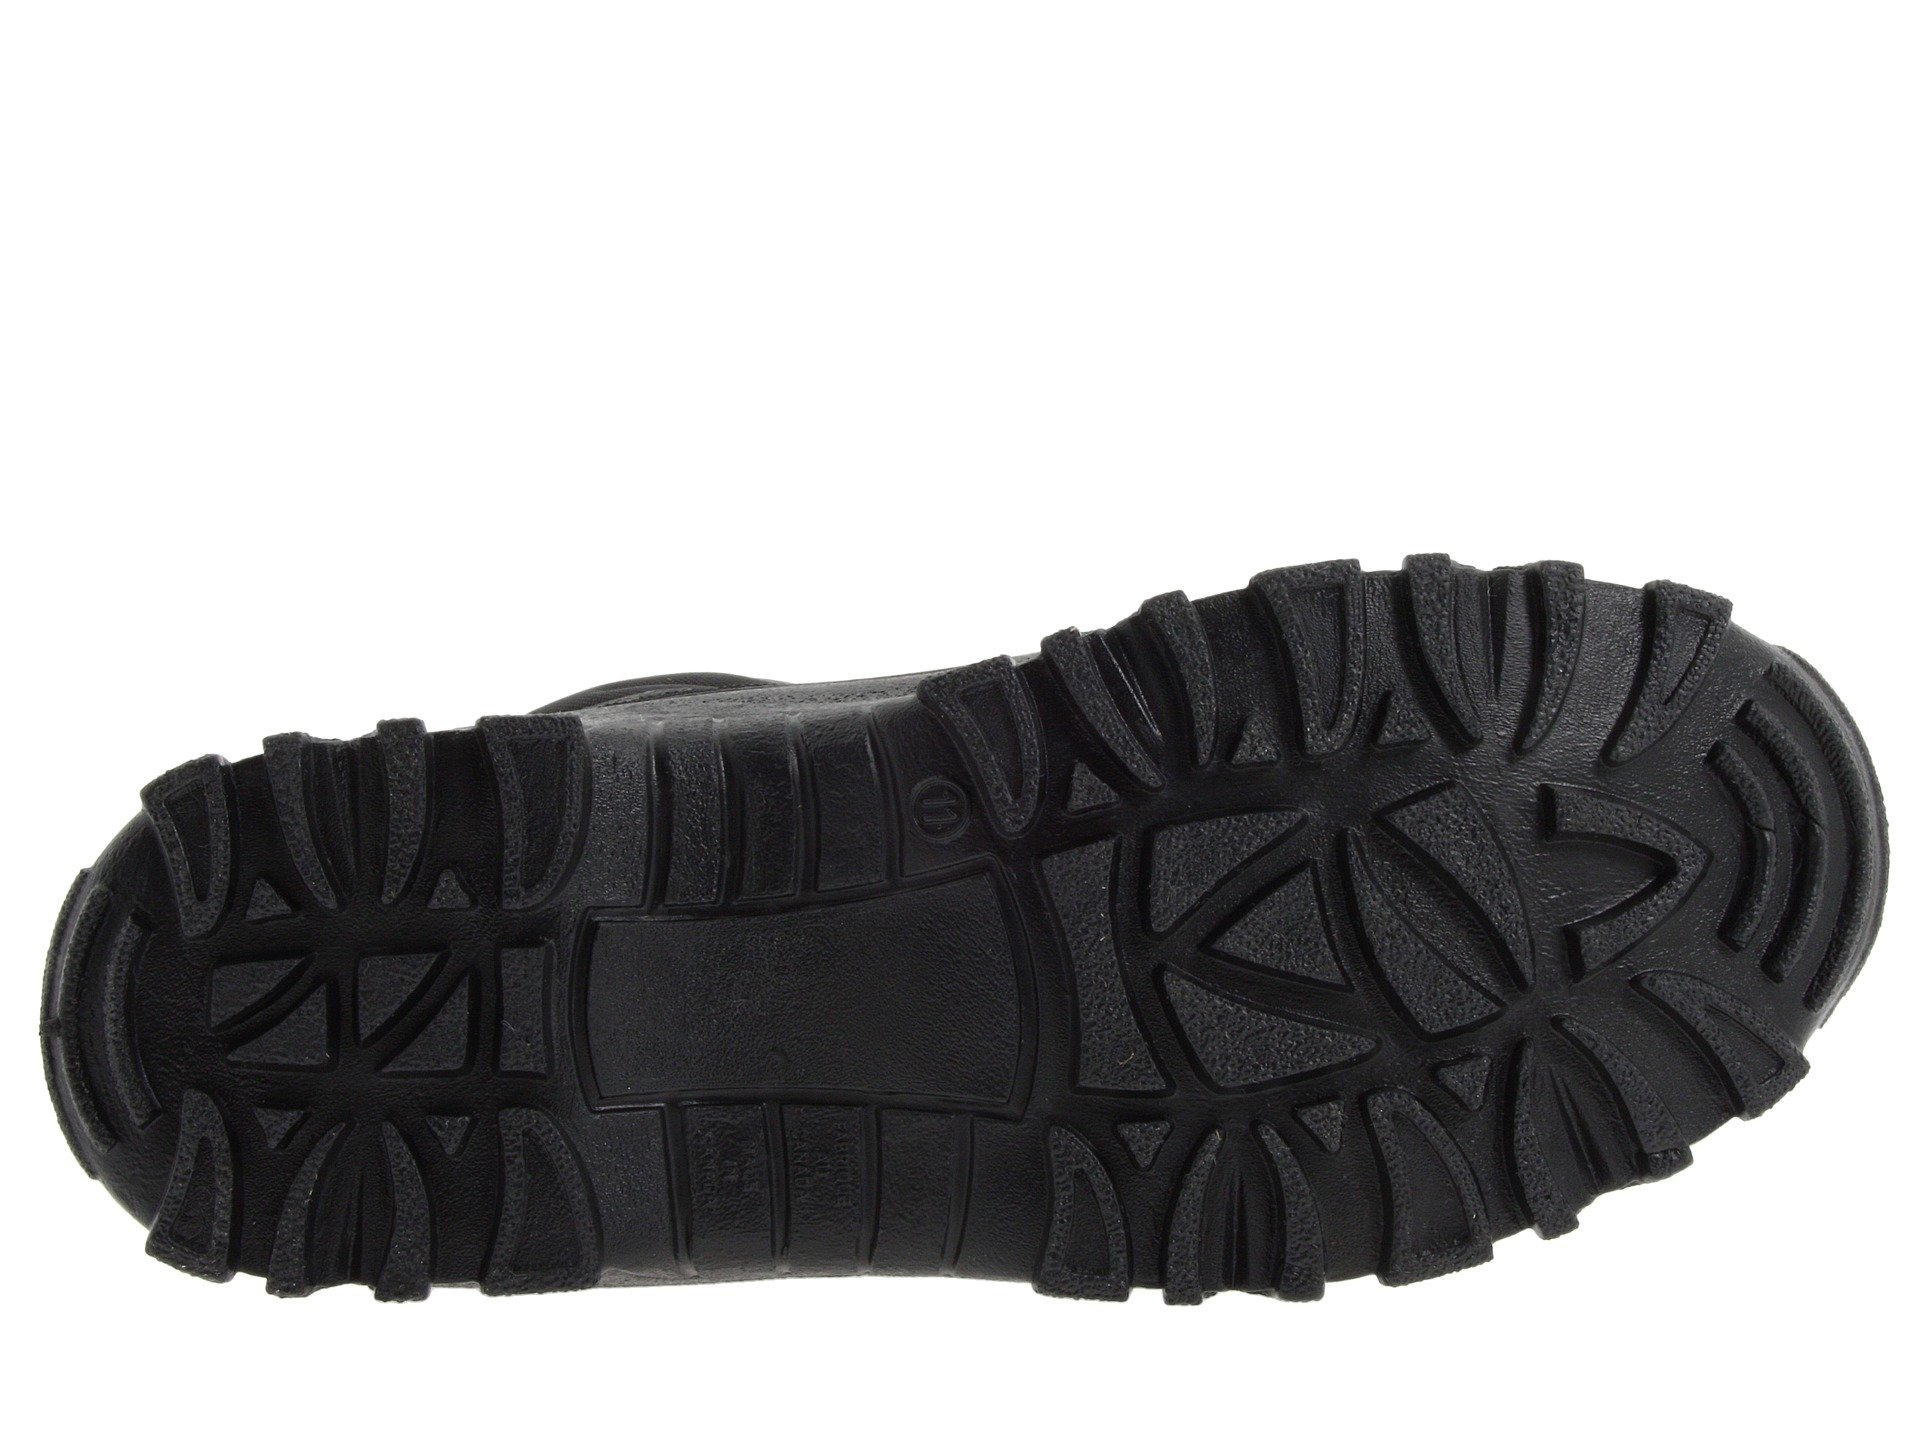chevron: (1438, 597, 1872, 1072)
quad: (1034, 749, 1491, 1181), (142, 830, 568, 1240)
triangle: (1438, 597, 1872, 1072), (1034, 749, 1491, 1181), (142, 830, 568, 1240)
